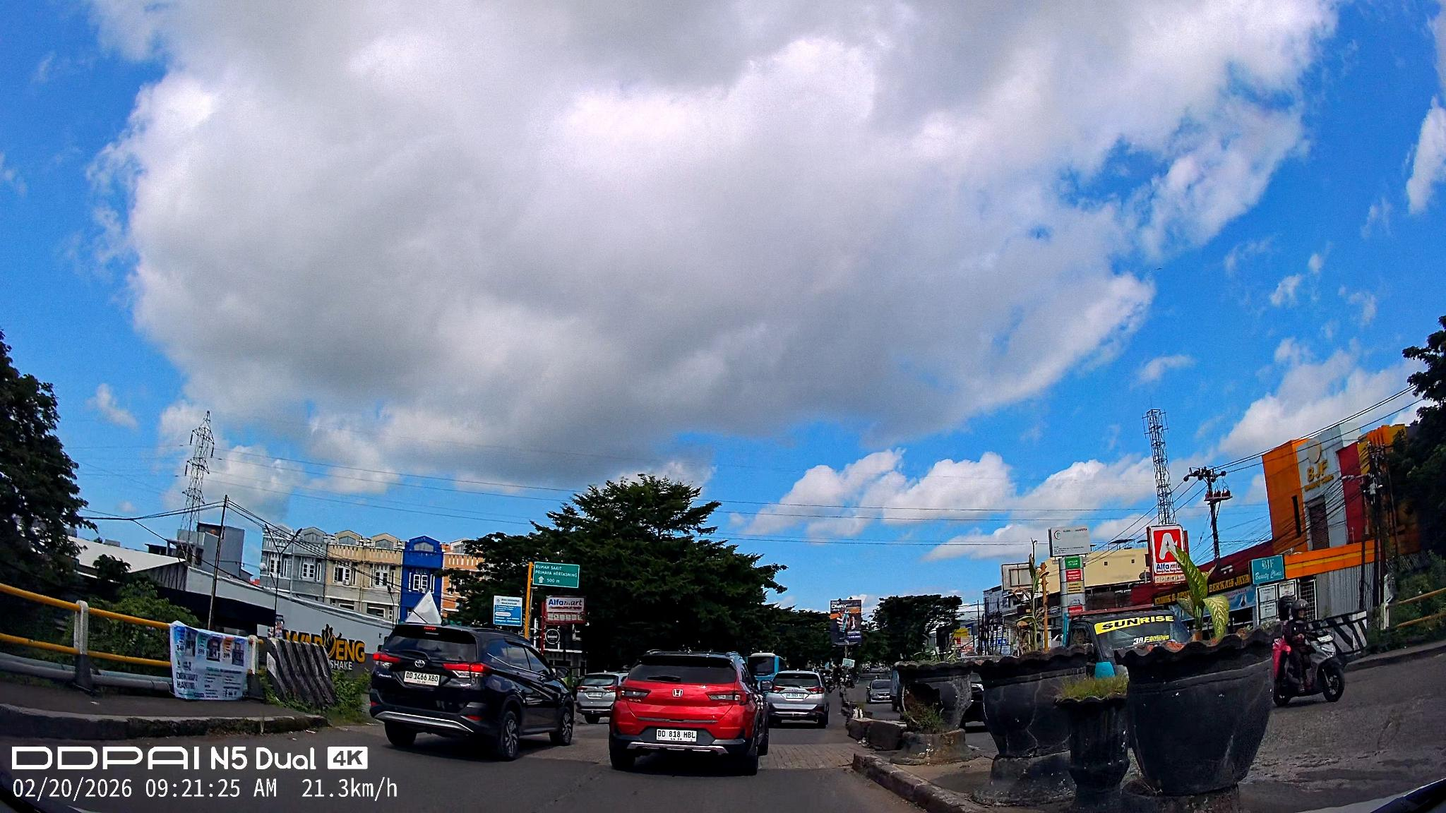rambu_teks: (533, 562, 579, 588)
